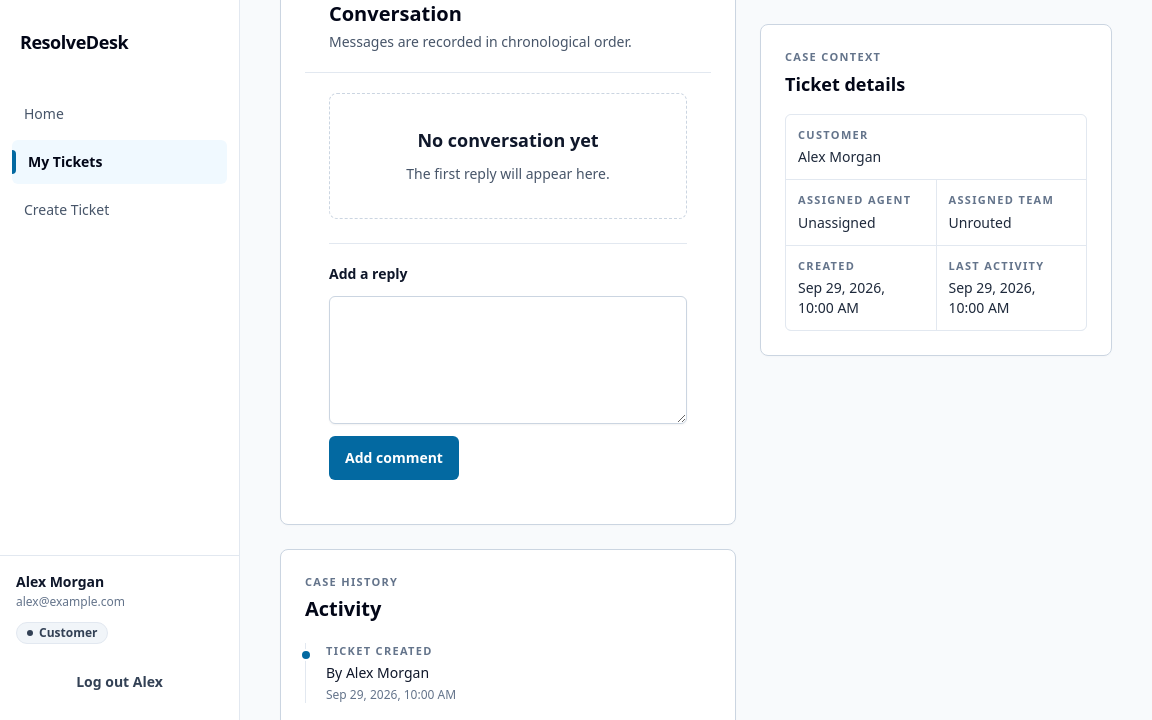
it: ticket conversation › submits a comment through the shared CSRF API layer and refreshes ticket activity
(page scrolled)
Expected: the heading "Conversation" is shown, [329, 0, 462, 27]
Type "Please keep me updated." into the text box named "Add a comment" at (508, 360), box [329, 296, 687, 424]
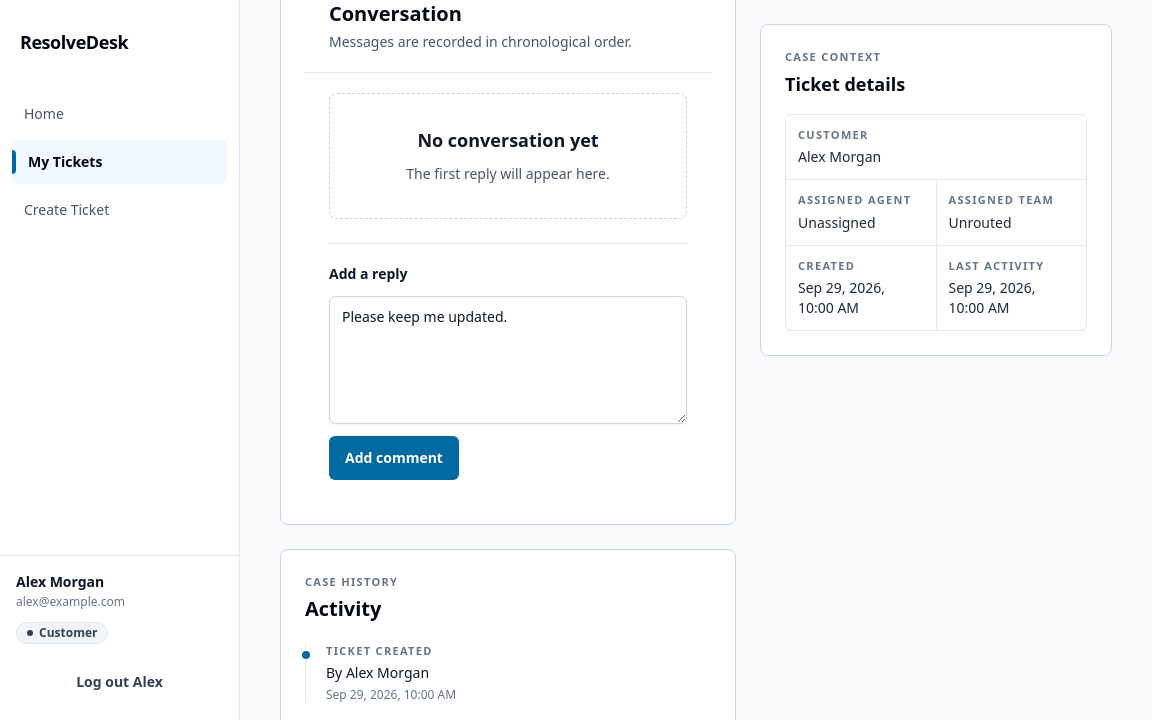
Click the button "Add comment" at (394, 458), box [329, 436, 459, 480]
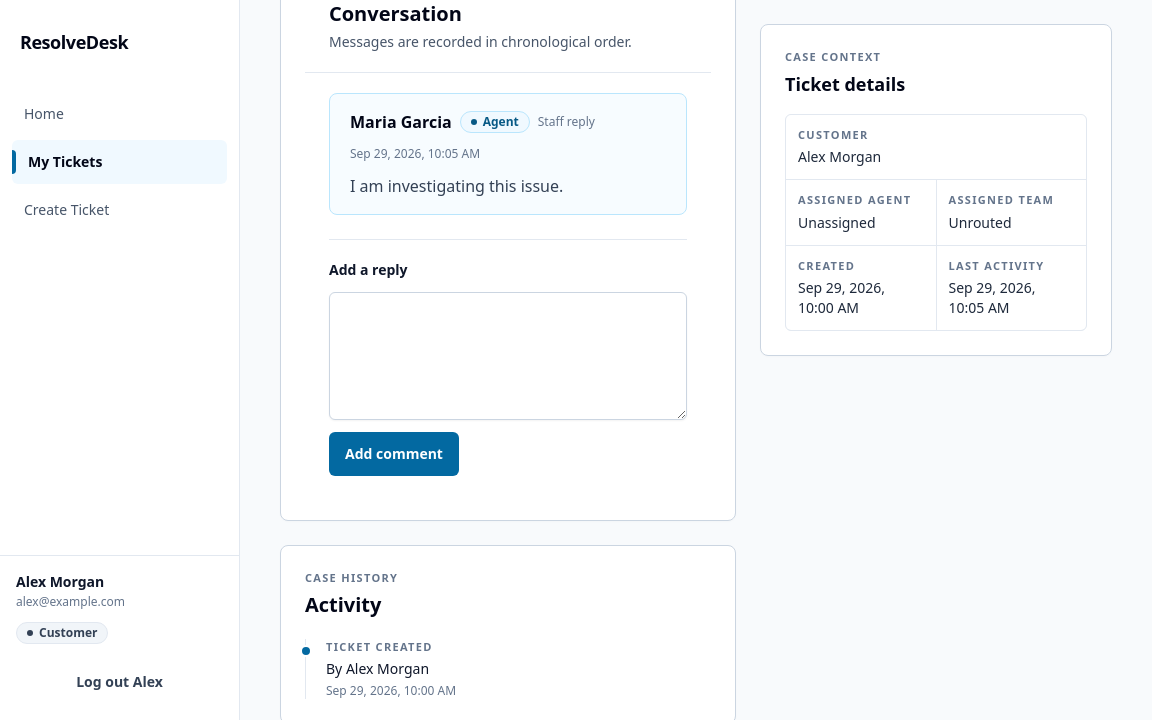
Expected: the text "I am investigating this issue." is shown, [350, 175, 563, 197]
